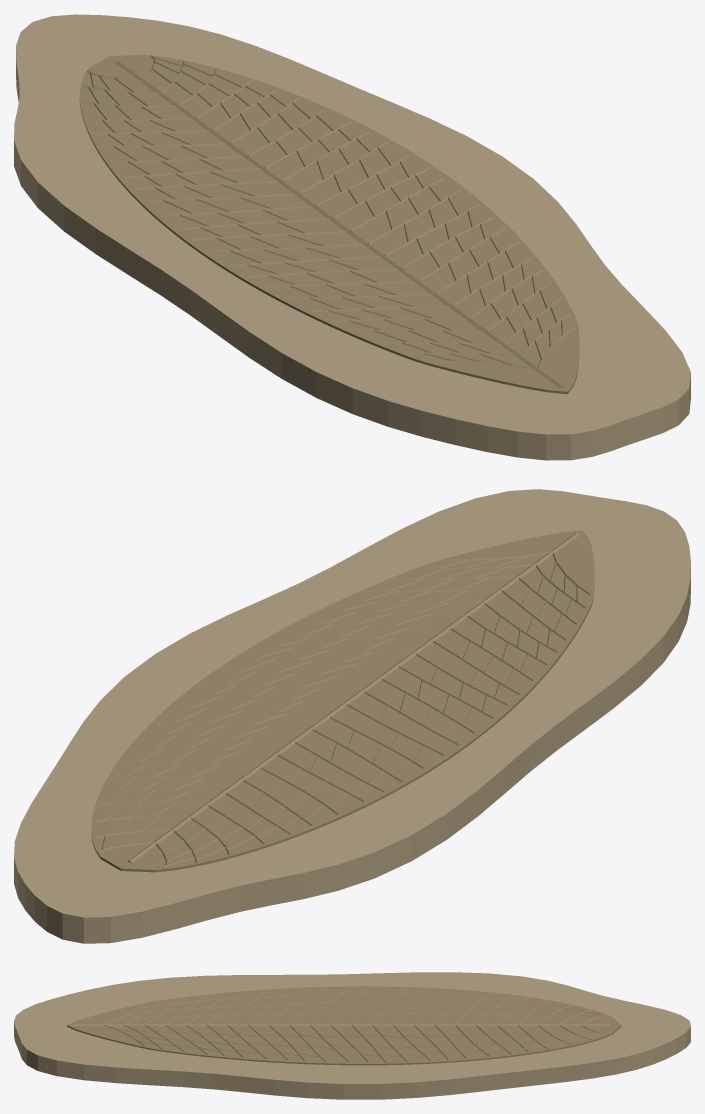
The picture shows the model from 3 angles, top to bottom: view 1: azimuth 30°, elevation 25°; view 2: azimuth 150°, elevation 25°; view 3: azimuth 270°, elevation 25°; orthographic projection. The views are drawn at different scales.
Visible parts, largest first — view 1: single_Glossopteris_browniana_fossil_leaf_polygonal_reticula; view 2: single_Glossopteris_browniana_fossil_leaf_polygonal_reticula; view 3: single_Glossopteris_browniana_fossil_leaf_polygonal_reticula.
Boxes of the visible parts, <box> form: single_Glossopteris_browniana_fossil_leaf_polygonal_reticula: <box>14,14,690,460</box>; single_Glossopteris_browniana_fossil_leaf_polygonal_reticula: <box>14,489,690,943</box>; single_Glossopteris_browniana_fossil_leaf_polygonal_reticula: <box>14,972,690,1099</box>.
Size of the model in its own units: 0.0764 by 0.00576 by 0.1954.
